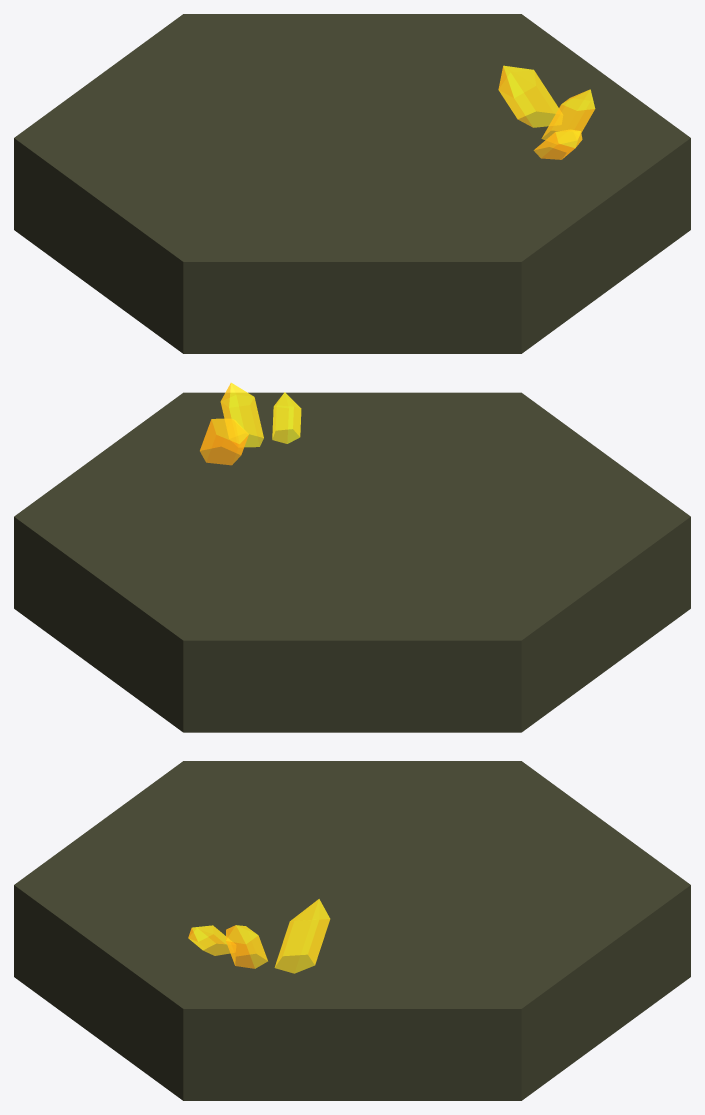
The model's file is GroundUnit(4).fbx.
3 renders of one model, top to bottom at view 1: azimuth 30°, elevation 25°; view 2: azimuth 150°, elevation 25°; view 3: azimuth 270°, elevation 25°, orthographic.
Parts seen in each view (by area): view 1: GroundUnit1.3; view 2: GroundUnit1.3; view 3: GroundUnit1.3.
Part boxes in pixels (<box>): GroundUnit1.3: <box>14,14,690,353</box>; GroundUnit1.3: <box>14,382,690,732</box>; GroundUnit1.3: <box>14,761,690,1100</box>.
Bounding box in the file's own units: 173 × 46.89 × 200.
